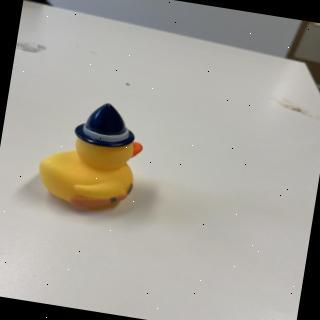duck_specialty: (34, 94, 153, 218)
